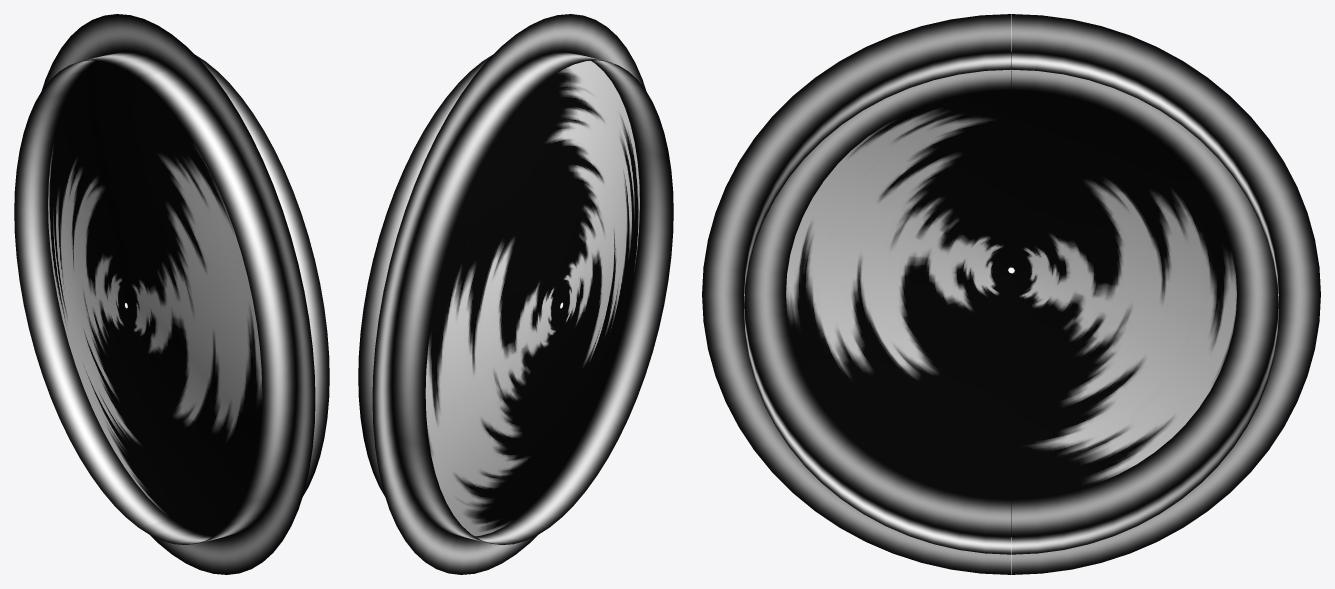
Rendered from Gurad.fbx.
3 renders of one model, left to right at view 1: azimuth 30°, elevation 25°; view 2: azimuth 150°, elevation 25°; view 3: azimuth 270°, elevation 25°, orthographic. The views are drawn at different scales.
Visible parts, largest first — view 1: 0001_SM_e_cmn_Guard001, 0003_SM_e_cmn_Guard001; view 2: 0001_SM_e_cmn_Guard001, 0003_SM_e_cmn_Guard001; view 3: 0001_SM_e_cmn_Guard001, 0003_SM_e_cmn_Guard001.
Part boxes in pixels (box(x1,y1,x2,y2)): 0001_SM_e_cmn_Guard001: box(48, 60, 262, 536); 0003_SM_e_cmn_Guard001: box(14, 14, 329, 574); 0001_SM_e_cmn_Guard001: box(425, 60, 639, 536); 0003_SM_e_cmn_Guard001: box(358, 14, 673, 574); 0001_SM_e_cmn_Guard001: box(786, 52, 1236, 536); 0003_SM_e_cmn_Guard001: box(702, 14, 1320, 574).
Size of the model in its own units: 11.6 by 72.63 by 72.63.
